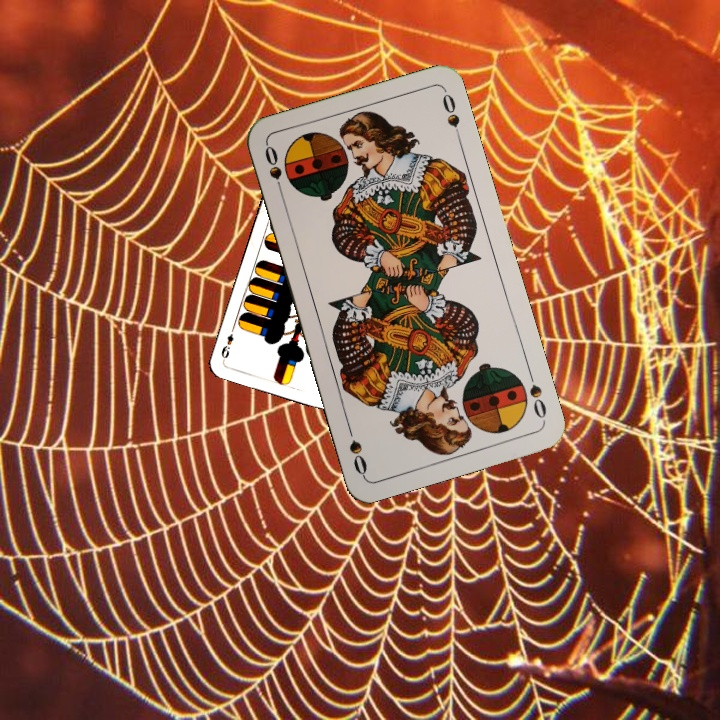SO: (260, 141, 286, 200), (524, 366, 549, 424)
